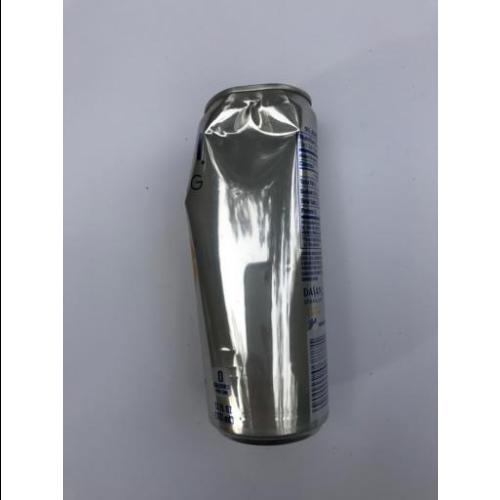metal: (186, 83, 327, 442)
